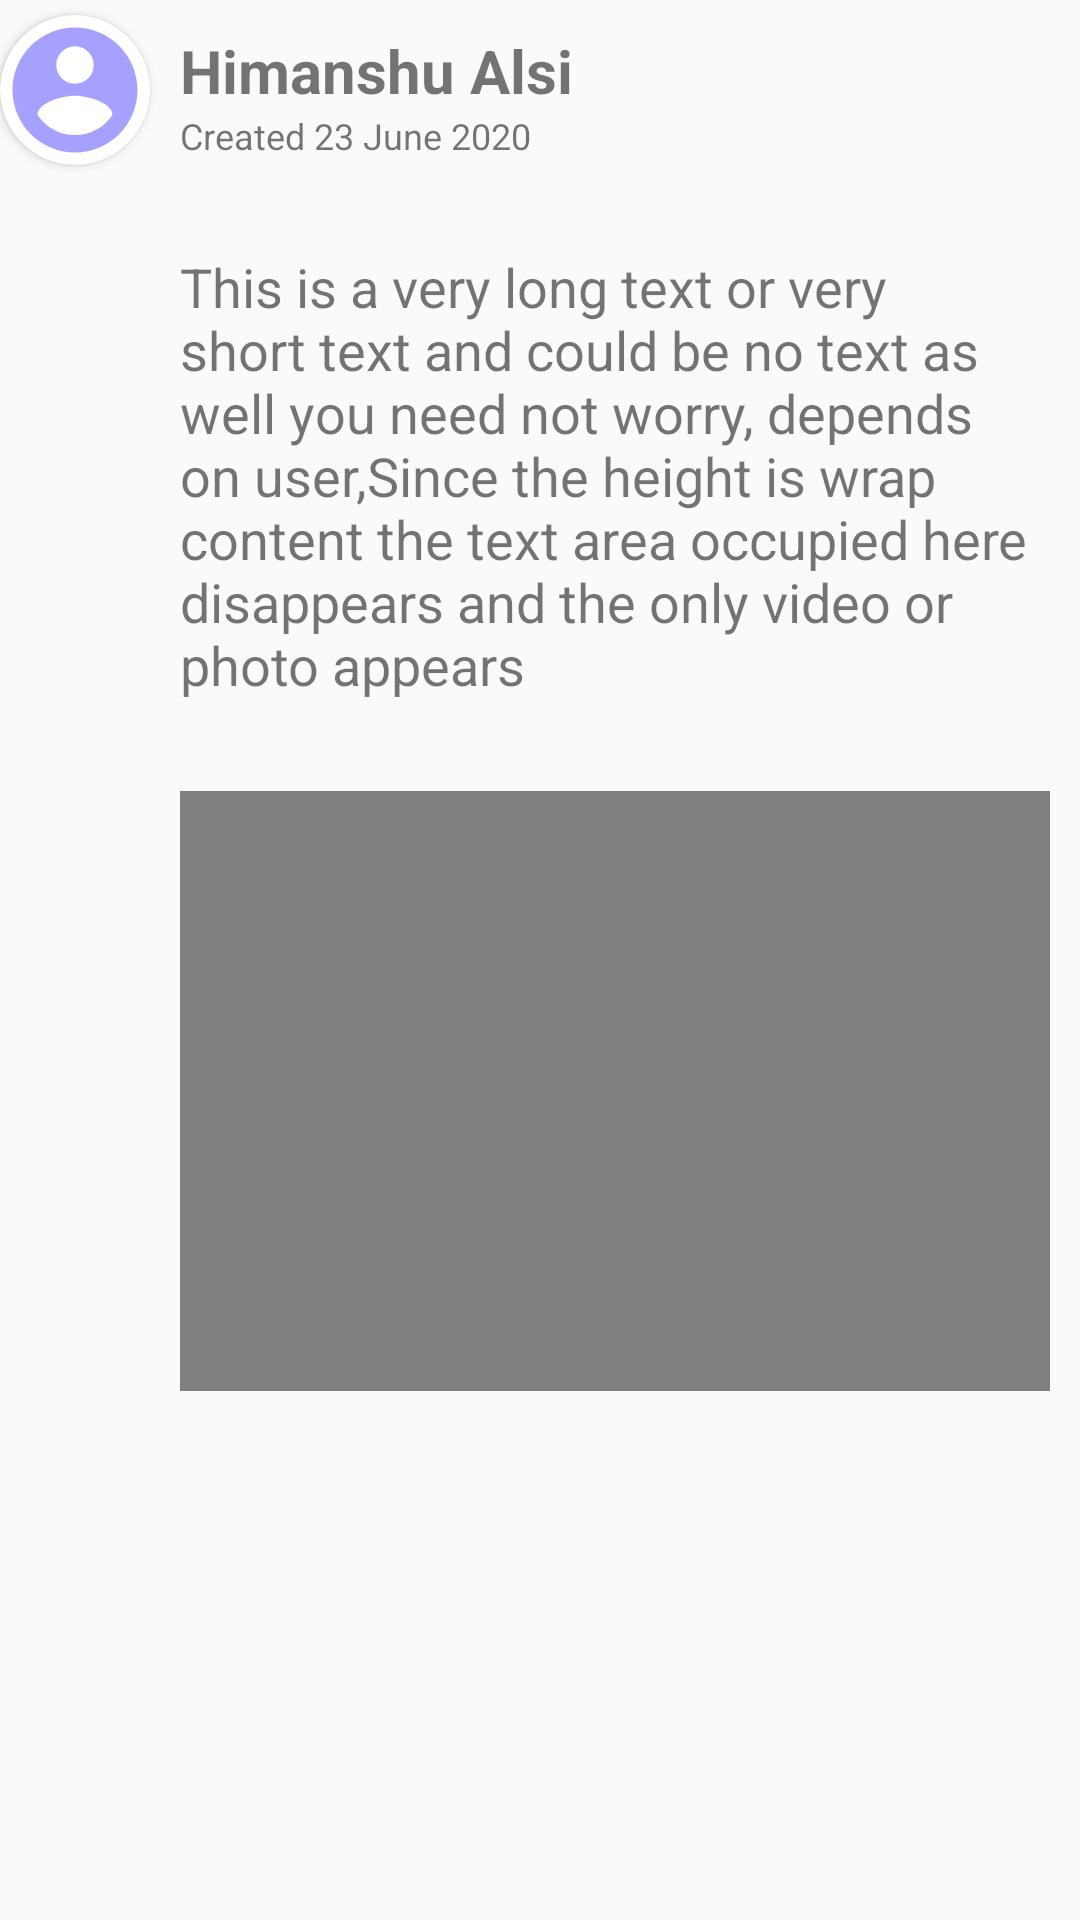

Screen size 1080px x 1920px. Icon name, then its center in pixels as (x,y):
account circle: (69,91)
